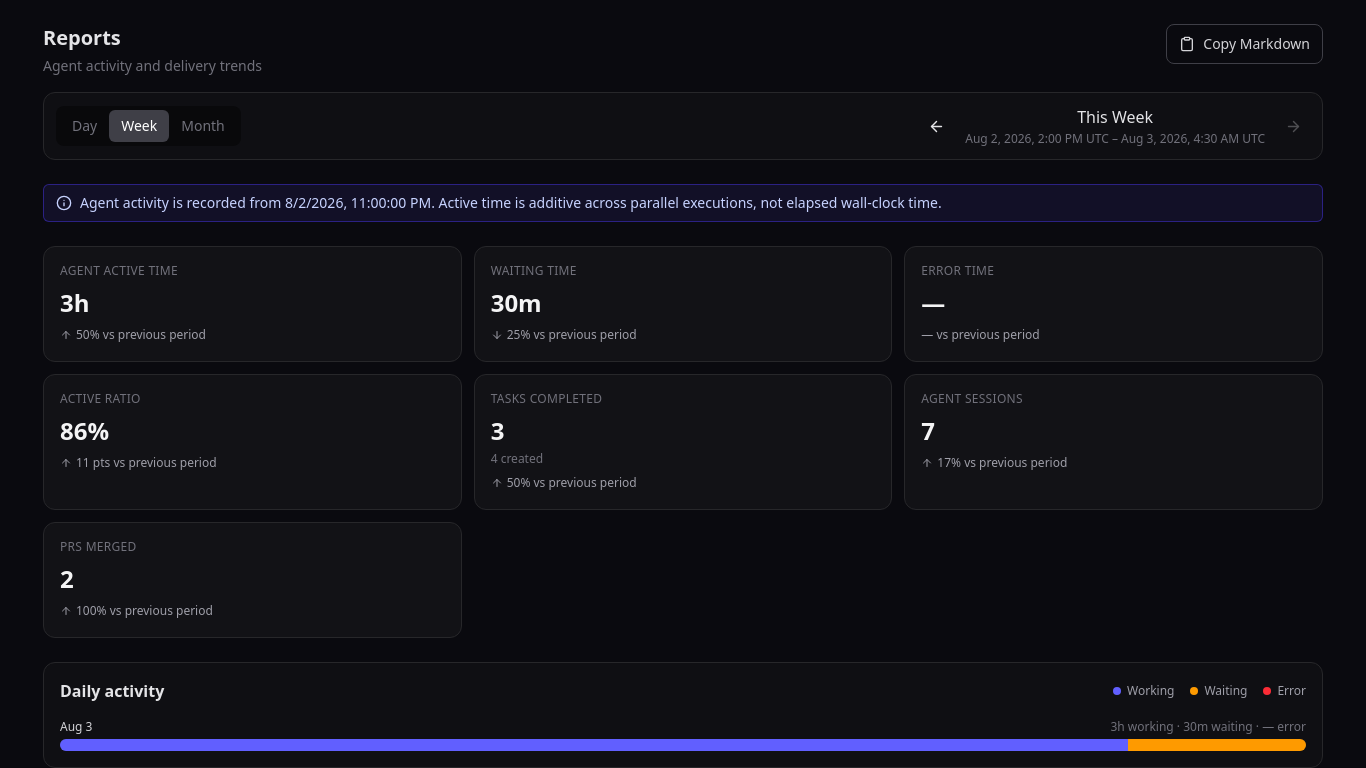
Test: ReportsPage › navigates offsets, disables next at current, and resets to current when changing period
Expected: the heading "This Week" is shown, [1077,106,1153,128]
Expected: the button named "Next period" is disabled, [1277,110,1310,142]
Click the button named "Previous period": (937, 126) [920,110,953,142]
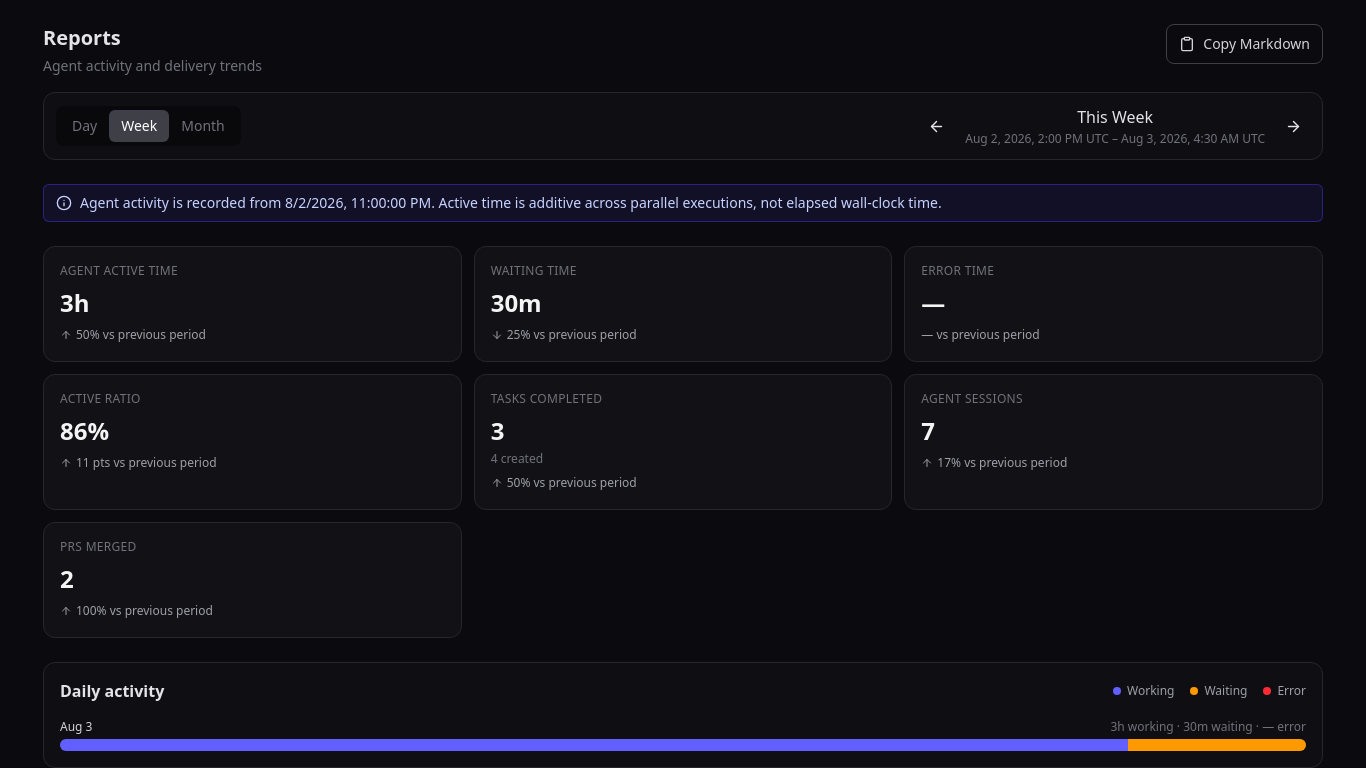
Now the button named "Next period" is enabled, box [1277,110,1310,142]
Click the button "Month": (203, 126) [169,110,237,142]
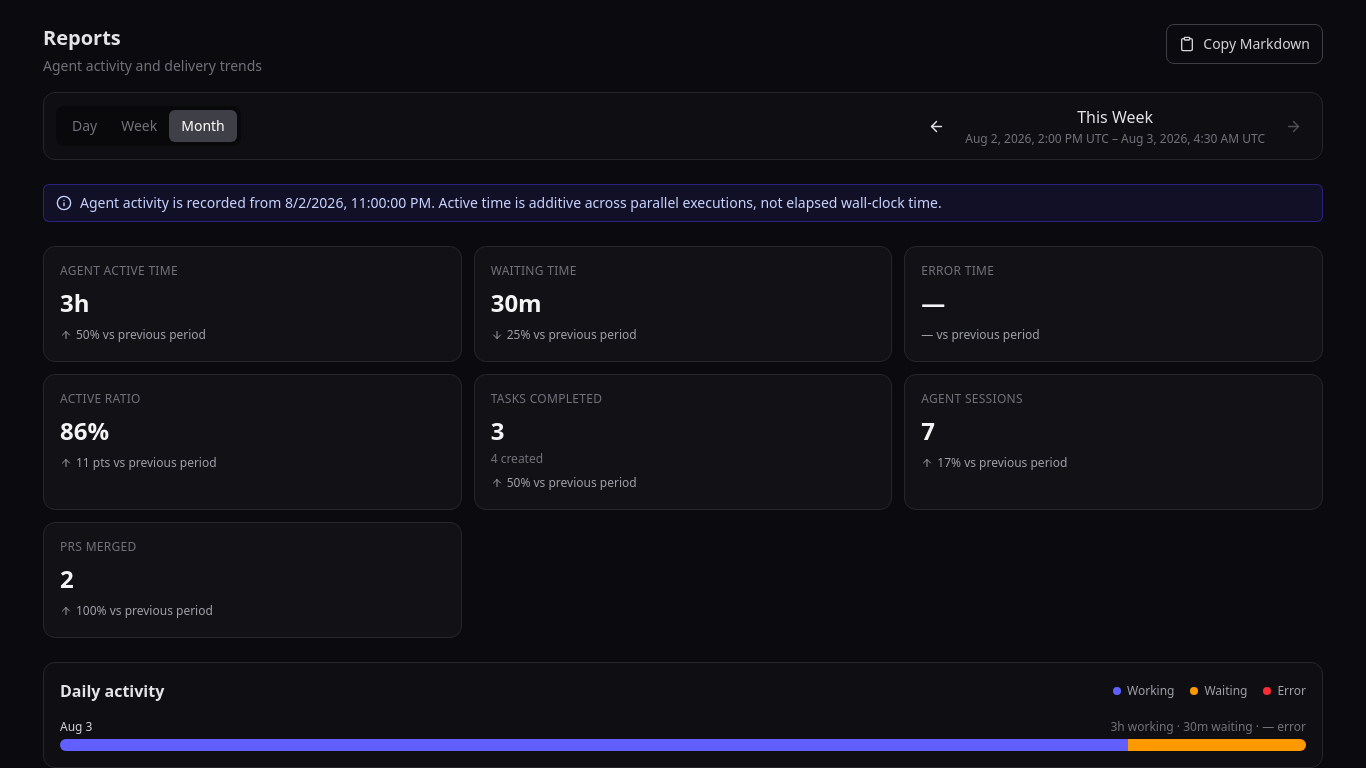
Now the button named "Next period" is disabled, box [1277,110,1310,142]
